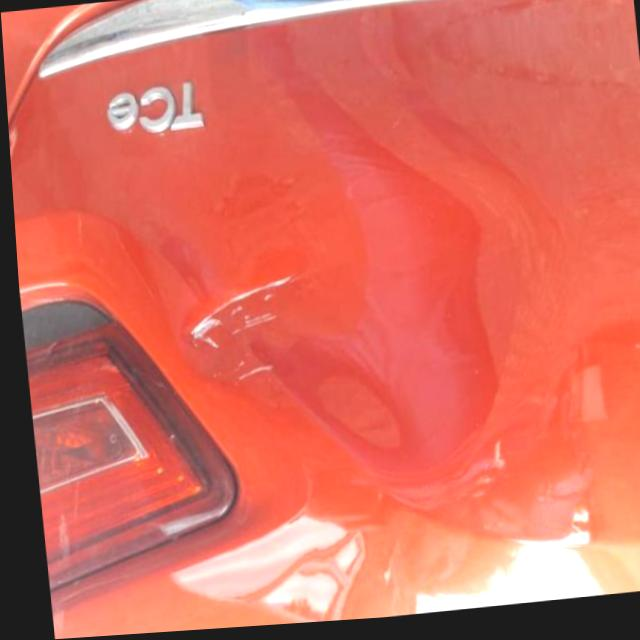Dent: (172, 104, 559, 508)
Scratch: (179, 271, 290, 351), (228, 360, 277, 382)
